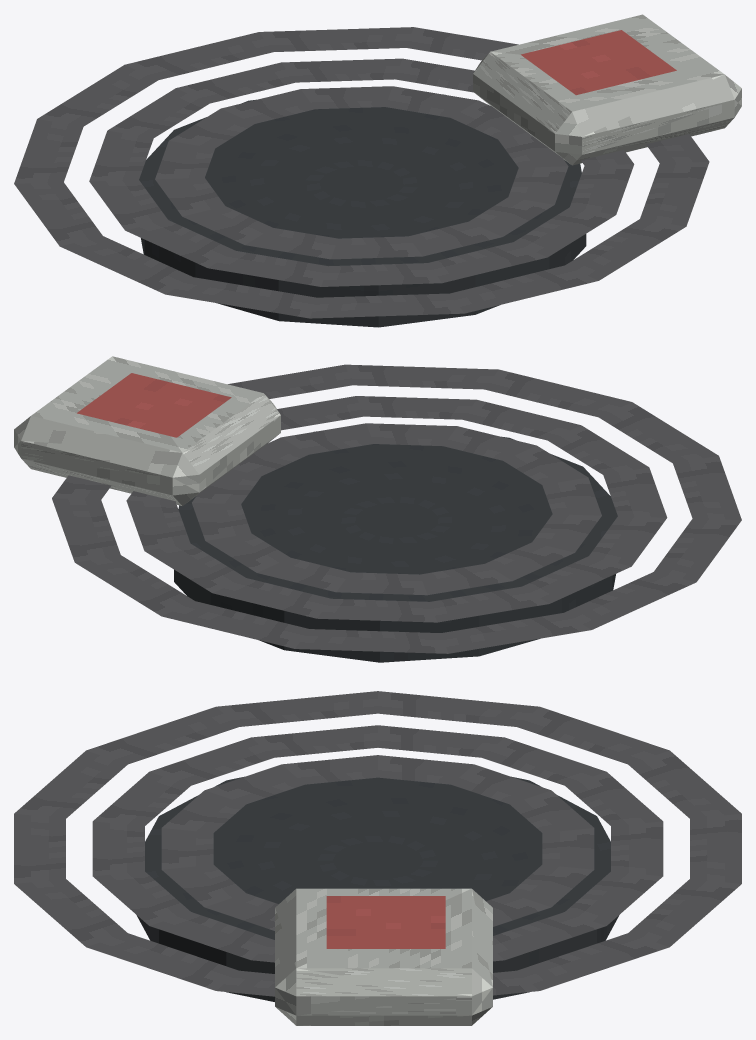
File: seatbelt.glb
3 renders of one model, top to bottom at view 1: azimuth 30°, elevation 25°; view 2: azimuth 150°, elevation 25°; view 3: azimuth 270°, elevation 25°, orthographic. The views are drawn at different scales.
Parts seen in each view (by area): view 1: block_belt core, block_latch hardware, block_rolled strap 4 (×3), block_rolled strap 11 (×3), block_rolled strap 5 (×3), block_rolled strap 3 (×3), block_rolled strap 10 (×3), block_rolled strap 6 (×3), block_rolled strap 2 (×3), block_rolled strap 9 (×3), block_rolled strap 1 (×3), block_rolled strap 8 (×3) (+5 smaller); view 2: block_belt core, block_latch hardware, block_rolled strap 2 (×3), block_rolled strap 9 (×3), block_rolled strap 10 (×3), block_rolled strap 3 (×3), block_rolled strap 8 (×3), block_rolled strap 7 (×3), block_rolled strap 4 (×3), block_rolled strap 11 (×3), block_rolled strap 5 (×3), block_rolled strap 6 (×3) (+5 smaller); view 3: block_belt core, block_latch hardware, block_rolled strap 6 (×3), block_rolled strap 7 (×3), block_rolled strap 5 (×3), block_rolled strap 8 (×3), block_rolled strap 4 (×3), block_rolled strap 9 (×3), block_rolled strap 2 (×3), block_rolled strap 11 (×3), block_rolled strap 3 (×3), block_rolled strap 10 (×3) (+5 smaller).
Boxes of the visible parts, <box> form: block_belt core: <box>139,94,586,327</box>; block_latch hardware: <box>473,14,741,165</box>; block_rolled strap 4 (×3): <box>310,236,464,318</box>; block_rolled strap 11 (×3): <box>259,27,413,109</box>; block_rolled strap 5 (×3): <box>166,228,337,318</box>; block_rolled strap 3 (×3): <box>408,221,598,313</box>; block_rolled strap 10 (×3): <box>125,32,314,123</box>; block_rolled strap 6 (×3): <box>60,206,272,294</box>; block_rolled strap 2 (×3): <box>469,197,685,280</box>; block_rolled strap 9 (×3): <box>37,65,254,148</box>; block_rolled strap 1 (×3): <box>508,161,709,226</box>; block_rolled strap 8 (×3): <box>14,119,214,183</box>; block_belt core: <box>174,431,617,662</box>; block_latch hardware: <box>14,356,280,505</box>; block_rolled strap 2 (×3): <box>345,364,498,446</box>; block_rolled strap 9 (×3): <box>295,572,448,653</box>; block_rolled strap 10 (×3): <box>162,557,350,648</box>; block_rolled strap 3 (×3): <box>443,369,631,460</box>; block_rolled strap 8 (×3): <box>420,564,590,653</box>; block_rolled strap 7 (×3): <box>485,542,695,629</box>; block_rolled strap 4 (×3): <box>503,402,718,484</box>; block_rolled strap 11 (×3): <box>75,533,290,616</box>; block_rolled strap 5 (×3): <box>542,456,741,520</box>; block_rolled strap 6 (×3): <box>532,514,741,582</box>; block_belt core: <box>136,776,619,1001</box>; block_latch hardware: <box>275,888,492,1025</box>; block_rolled strap 6 (×3): <box>216,691,377,784</box>; block_rolled strap 7 (×3): <box>378,691,539,784</box>; block_rolled strap 5 (×3): <box>86,707,304,804</box>; block_rolled strap 8 (×3): <box>451,707,669,804</box>; block_rolled strap 4 (×3): <box>14,750,245,832</box>; block_rolled strap 9 (×3): <box>510,750,741,832</box>; block_rolled strap 2 (×3): <box>14,864,245,946</box>; block_rolled strap 11 (×3): <box>510,864,741,946</box>; block_rolled strap 3 (×3): <box>14,813,213,883</box>; block_rolled strap 10 (×3): <box>542,813,741,883</box>.
Size of the model in its own units: 0.1666 by 0.0266 by 0.1523.
1 material, 1 textured.
